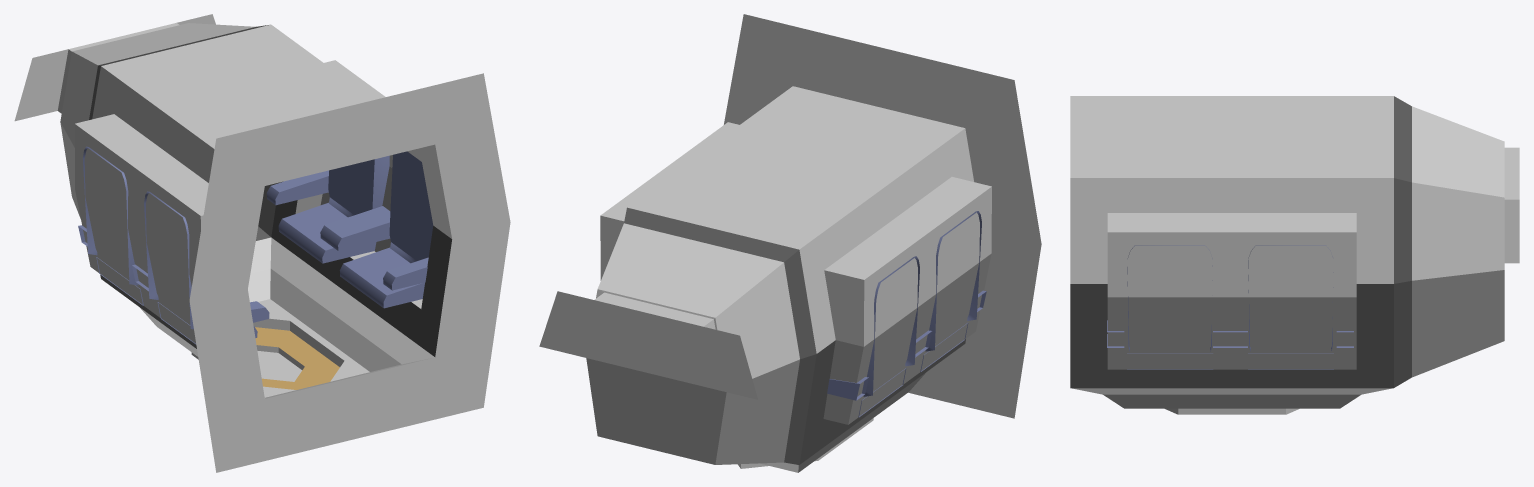
File: escapePod.fbx
3 renders of one model, left to right at view 1: azimuth 30°, elevation 25°; view 2: azimuth 150°, elevation 25°; view 3: azimuth 270°, elevation 25°, orthographic. The views are drawn at different scales.
Visible parts, largest first — view 1: pod_Body, pod_Glass; view 2: pod_Body, pod_Glass; view 3: pod_Body.
Part boxes in pixels (x1,y1,x2,y2): pod_Body: (57, 23, 510, 472); pod_Glass: (14, 14, 215, 121); pod_Body: (586, 14, 1041, 472); pod_Glass: (539, 291, 757, 399); pod_Body: (1070, 96, 1519, 414).
Bounding box in the file's own units: 3.39 × 3.38 × 4.16.
